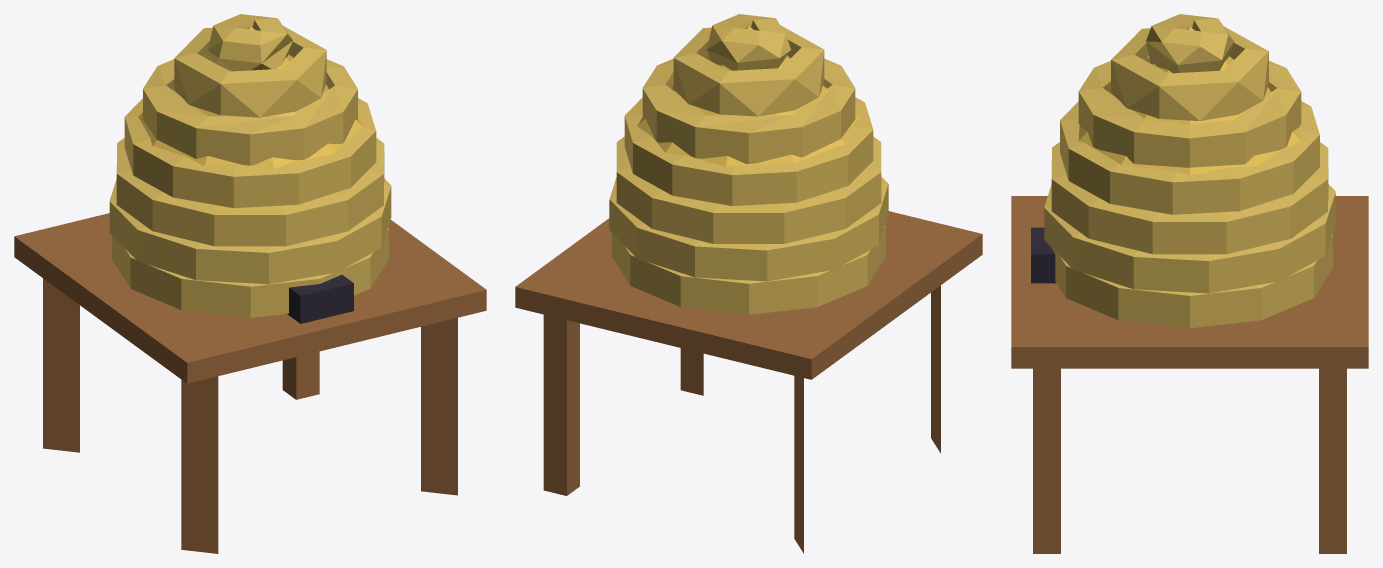
File: beehive.glb
3 renders of one model, left to right at view 1: azimuth 30°, elevation 25°; view 2: azimuth 150°, elevation 25°; view 3: azimuth 270°, elevation 25°, orthographic. The views are drawn at different scales.
Parts seen in each view (by area): view 1: Skep coils, Skep stand, Skep entrance, Skep core; view 2: Skep coils, Skep stand, Skep core; view 3: Skep coils, Skep stand, Skep core, Skep entrance.
Boxes of the visible parts, bbox=[...] form: Skep coils: bbox=[109, 14, 391, 317]; Skep stand: bbox=[14, 213, 486, 553]; Skep entrance: bbox=[287, 274, 353, 323]; Skep core: bbox=[138, 26, 362, 315]; Skep coils: bbox=[609, 14, 888, 314]; Skep stand: bbox=[515, 211, 982, 553]; Skep core: bbox=[637, 26, 860, 312]; Skep coils: bbox=[1044, 14, 1335, 328]; Skep stand: bbox=[1011, 196, 1368, 553]; Skep core: bbox=[1078, 27, 1301, 175]; Skep entrance: bbox=[1031, 227, 1056, 283].
Bounding box in the file's own units: 0.9 × 1.28 × 0.9.
